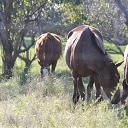caballo: (64, 19, 115, 111), (31, 30, 62, 80)
